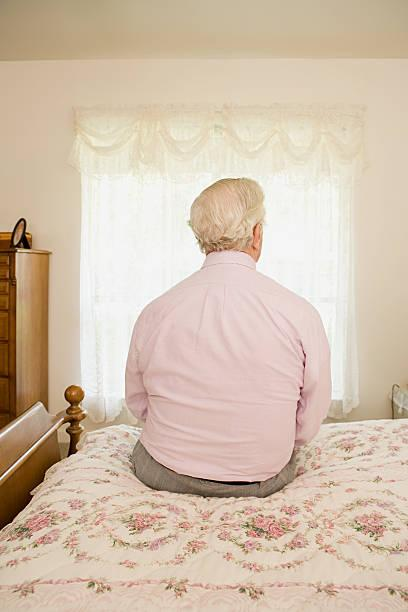Human: (114, 164, 324, 508)
